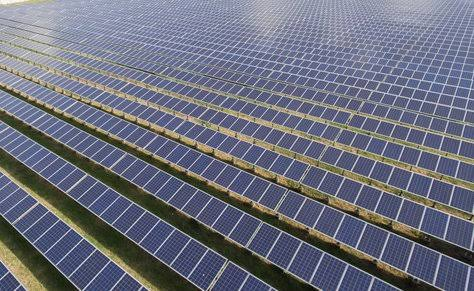Solar Panel: (45, 209, 60, 264), (85, 244, 101, 291), (30, 197, 44, 250), (14, 186, 29, 234), (73, 233, 85, 291), (61, 223, 73, 280), (444, 267, 472, 291), (103, 257, 121, 290), (1, 176, 14, 219), (1, 123, 18, 155), (45, 151, 56, 182), (31, 143, 43, 171), (56, 159, 67, 189), (68, 166, 79, 196), (19, 134, 29, 164), (121, 270, 134, 291)
